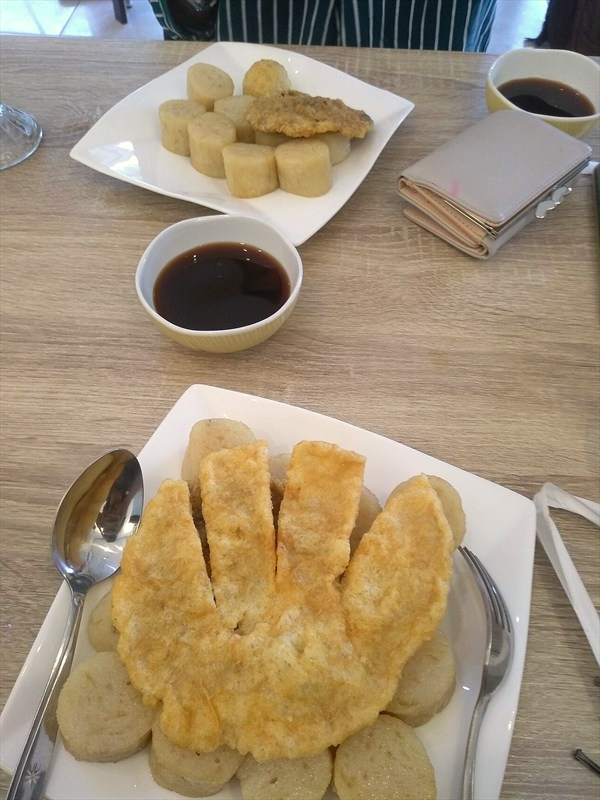Pempek: (76, 16, 561, 661)
